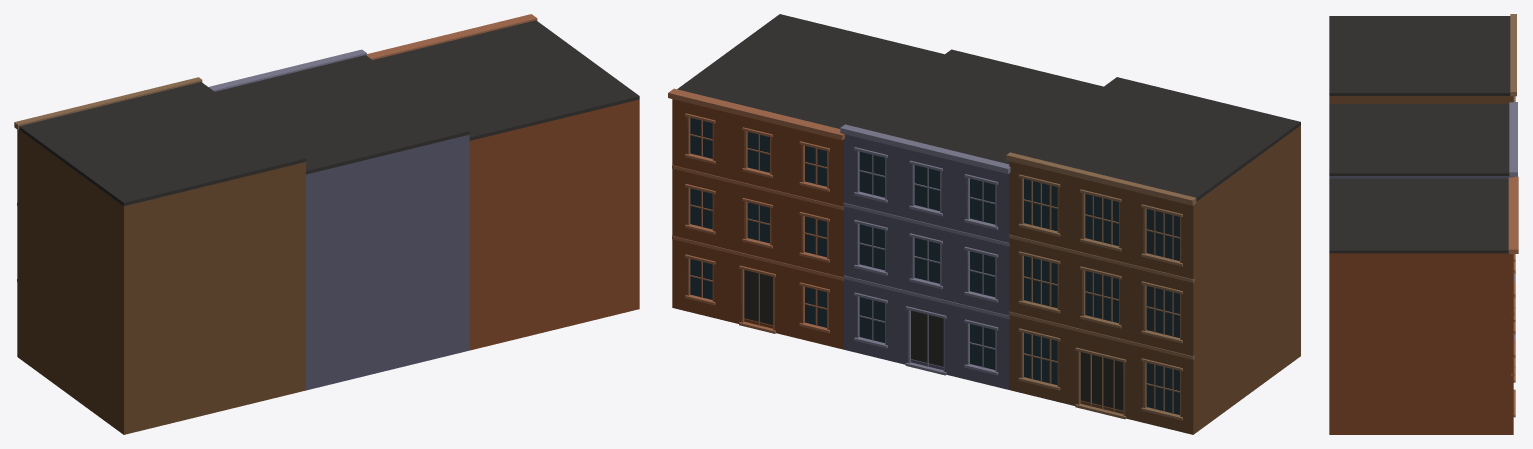
File: connected_frontage.obj
The picture shows the model from 3 angles, left to right: view 1: azimuth 30°, elevation 25°; view 2: azimuth 150°, elevation 25°; view 3: azimuth 270°, elevation 25°; orthographic projection. The views are drawn at different scales.
Visible parts, largest first — view 1: rear_1, rear_231, rear_125, party_wall_2, roof_slab_123, roof_slab_335, roof_slab_229, foundation_0, cornice_334, cornice_122, cornice_228, foundation_230 (+3 smaller); view 2: party_wall_2, roof_slab_123, roof_slab_335, roof_slab_229, loading_door_20, cornice_334, cornice_228, cornice_122, door_142, recessed_glass_46, recessed_glass_86, recessed_glass_8 (+84 smaller); view 3: side_233, roof_slab_123, roof_slab_335, roof_slab_229, side_3, foundation_230, rear_231, cornice_334, cornice_228, cornice_122, side_127, wall_pier_289 (+2 smaller).
Boxes of the visible parts, left/top/right/bottom form: rear_1: left=121, top=162, right=305, bottom=434; rear_231: left=469, top=99, right=639, bottom=350; rear_125: left=306, top=134, right=469, bottom=390; party_wall_2: left=18, top=130, right=128, bottom=434; roof_slab_123: left=19, top=82, right=305, bottom=205; roof_slab_335: left=373, top=20, right=639, bottom=140; roof_slab_229: left=215, top=55, right=469, bottom=174; foundation_0: left=18, top=353, right=305, bottom=434; cornice_334: left=367, top=14, right=537, bottom=59; cornice_122: left=14, top=77, right=202, bottom=129; cornice_228: left=208, top=49, right=366, bottom=91; foundation_230: left=469, top=304, right=639, bottom=350; party_wall_2: left=1194, top=127, right=1300, bottom=432; roof_slab_123: left=1013, top=77, right=1300, bottom=201; roof_slab_335: left=677, top=14, right=944, bottom=128; roof_slab_229: left=848, top=49, right=1103, bottom=164; loading_door_20: left=1080, top=352, right=1123, bottom=410; cornice_334: left=668, top=88, right=844, bottom=140; cornice_228: left=840, top=124, right=1010, bottom=173; cornice_122: left=1006, top=152, right=1196, bottom=205; door_142: left=911, top=310, right=943, bottom=366; recessed_glass_46: left=1146, top=286, right=1179, bottom=337; recessed_glass_86: left=1146, top=209, right=1179, bottom=260; recessed_glass_8: left=1146, top=363, right=1179, bottom=414; side_233: left=1329, top=253, right=1511, bottom=434; roof_slab_123: left=1329, top=16, right=1510, bottom=95; roof_slab_335: left=1329, top=178, right=1508, bottom=253; roof_slab_229: left=1329, top=104, right=1509, bottom=175; side_3: left=1330, top=96, right=1511, bottom=103; foundation_230: left=1329, top=430, right=1511, bottom=434; rear_231: left=1329, top=253, right=1333, bottom=434; cornice_334: left=1508, top=176, right=1518, bottom=253; cornice_228: left=1509, top=102, right=1517, bottom=176; cornice_122: left=1510, top=14, right=1516, bottom=96; side_127: left=1331, top=176, right=1510, bottom=178; wall_pier_289: left=1509, top=314, right=1513, bottom=374.
Bounding box in the file's own units: 25.62 × 11.04 × 9.37.
